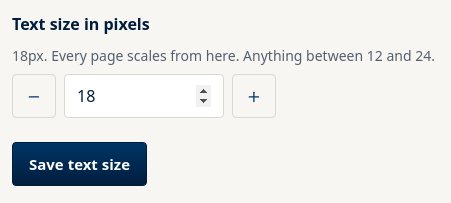
it: TextSizeForm › steps from the size in force when the field has no number in it
The image size is (451, 203).
Clear the number field labelled "Text size in pixels" at (144, 96), box [64, 74, 224, 118]
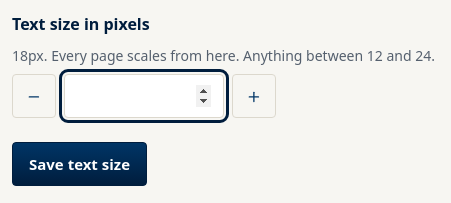
Click the button named "larger text".
click(254, 96)  # box [232, 74, 276, 118]
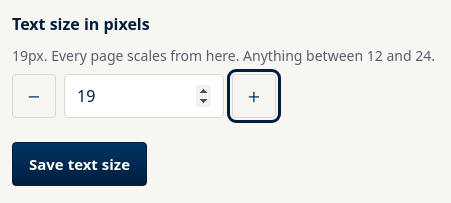
Now the number field labelled "Text size in pixels" holds "19", box [64, 74, 224, 118]
